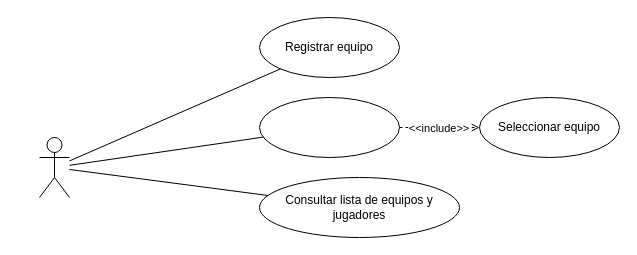
Some shapes in this 637 by 255 pixel diagram are drawn without their labels. The box of each missing label's shape, as (x1, y1, x2, y2) in pixels:
Administrador: (38, 136, 70, 198)
Añadir jugador: (258, 96, 400, 158)
